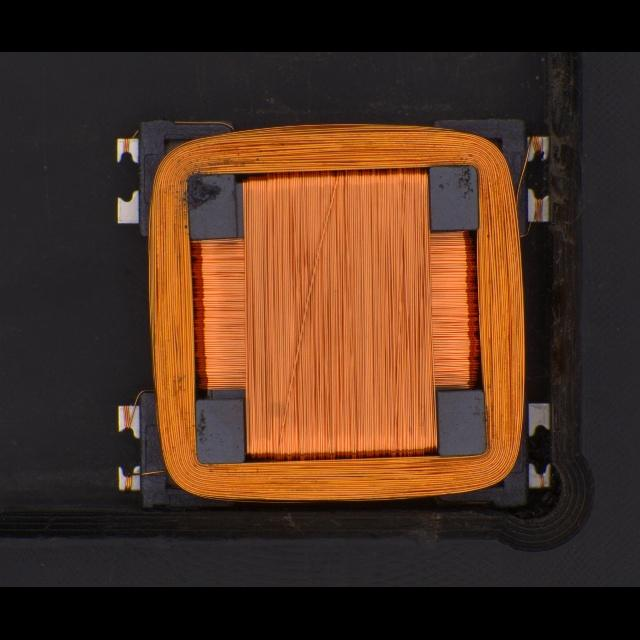Winding_Z: (120, 118, 530, 508)
